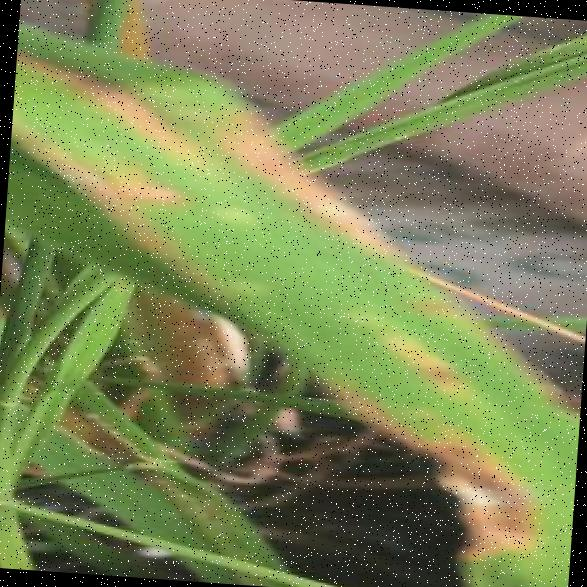Leaf_smut: (203, 88, 407, 258), (405, 418, 538, 561), (95, 158, 188, 213)
